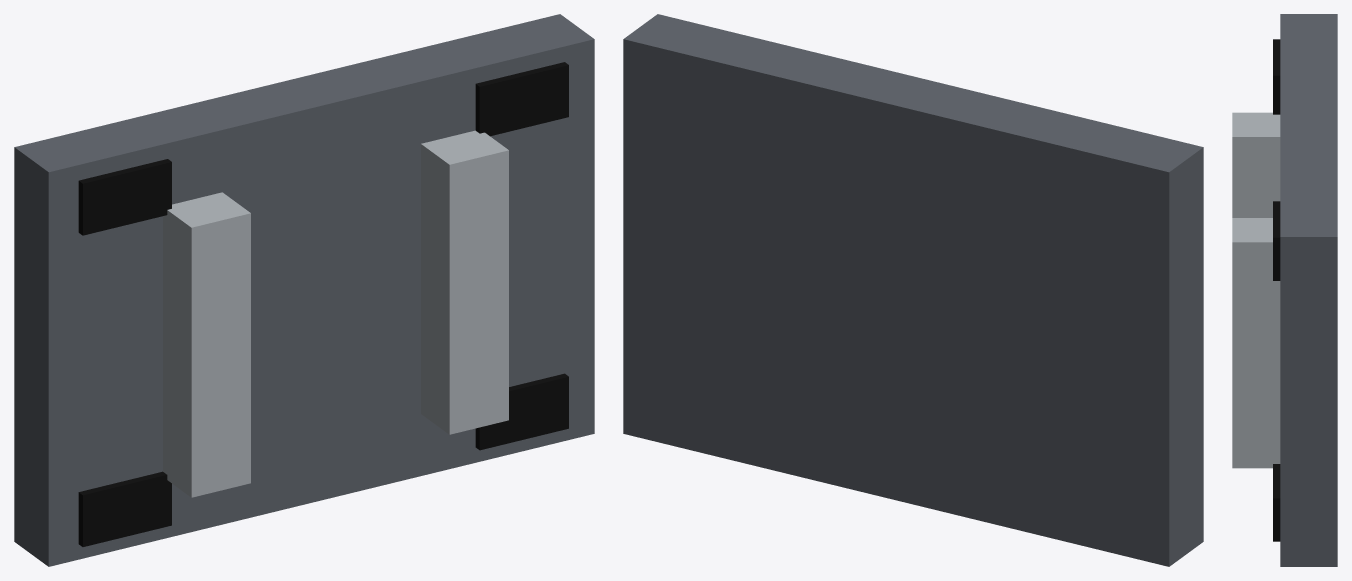
Rendered from item_m0.obj.
3 views of the same model, side by side, from view 1: azimuth 30°, elevation 25°; view 2: azimuth 150°, elevation 25°; view 3: azimuth 270°, elevation 25° (orthographic). The views are drawn at different scales.
Visible parts, largest first — view 1: item_m0; view 2: item_m0; view 3: item_m0.
Part boxes in pixels (x1,y1,x2,y2): item_m0: [14, 14, 594, 566]; item_m0: [623, 14, 1203, 566]; item_m0: [1232, 14, 1337, 566].
Size of the model in its own units: 0.11 by 0.076 by 0.022.
Materials: 1 (1 with a texture image).
